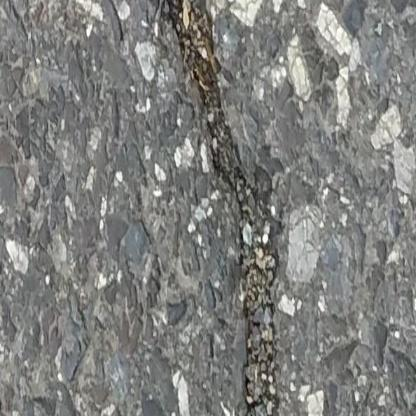Cracks: (162, 0, 285, 416)
